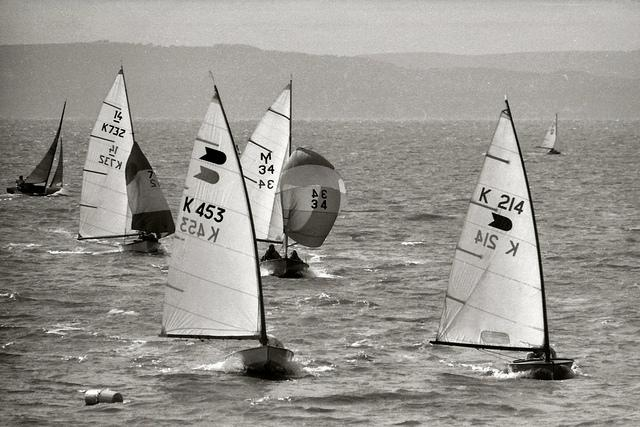fanchuan: (143, 70, 307, 376), (424, 96, 587, 382), (237, 78, 353, 284), (73, 65, 177, 258), (9, 102, 74, 199), (529, 109, 569, 161)
